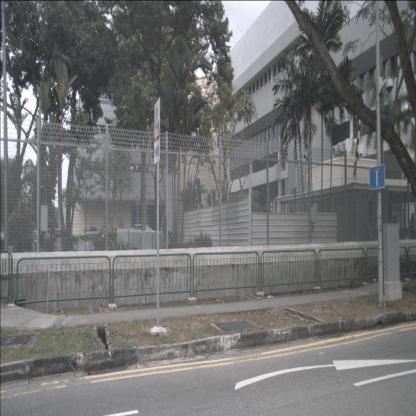vehicle-car: (13, 231, 40, 251), (134, 224, 156, 239), (82, 227, 102, 241)
